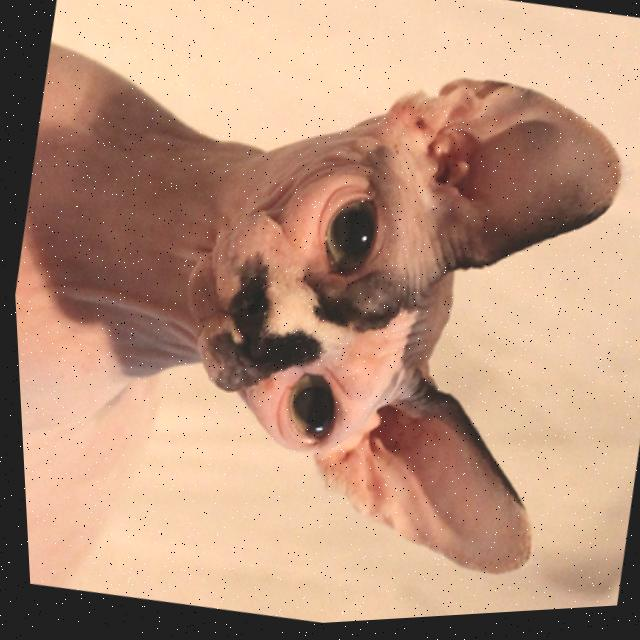Sphynx: (1, 0, 640, 640)
